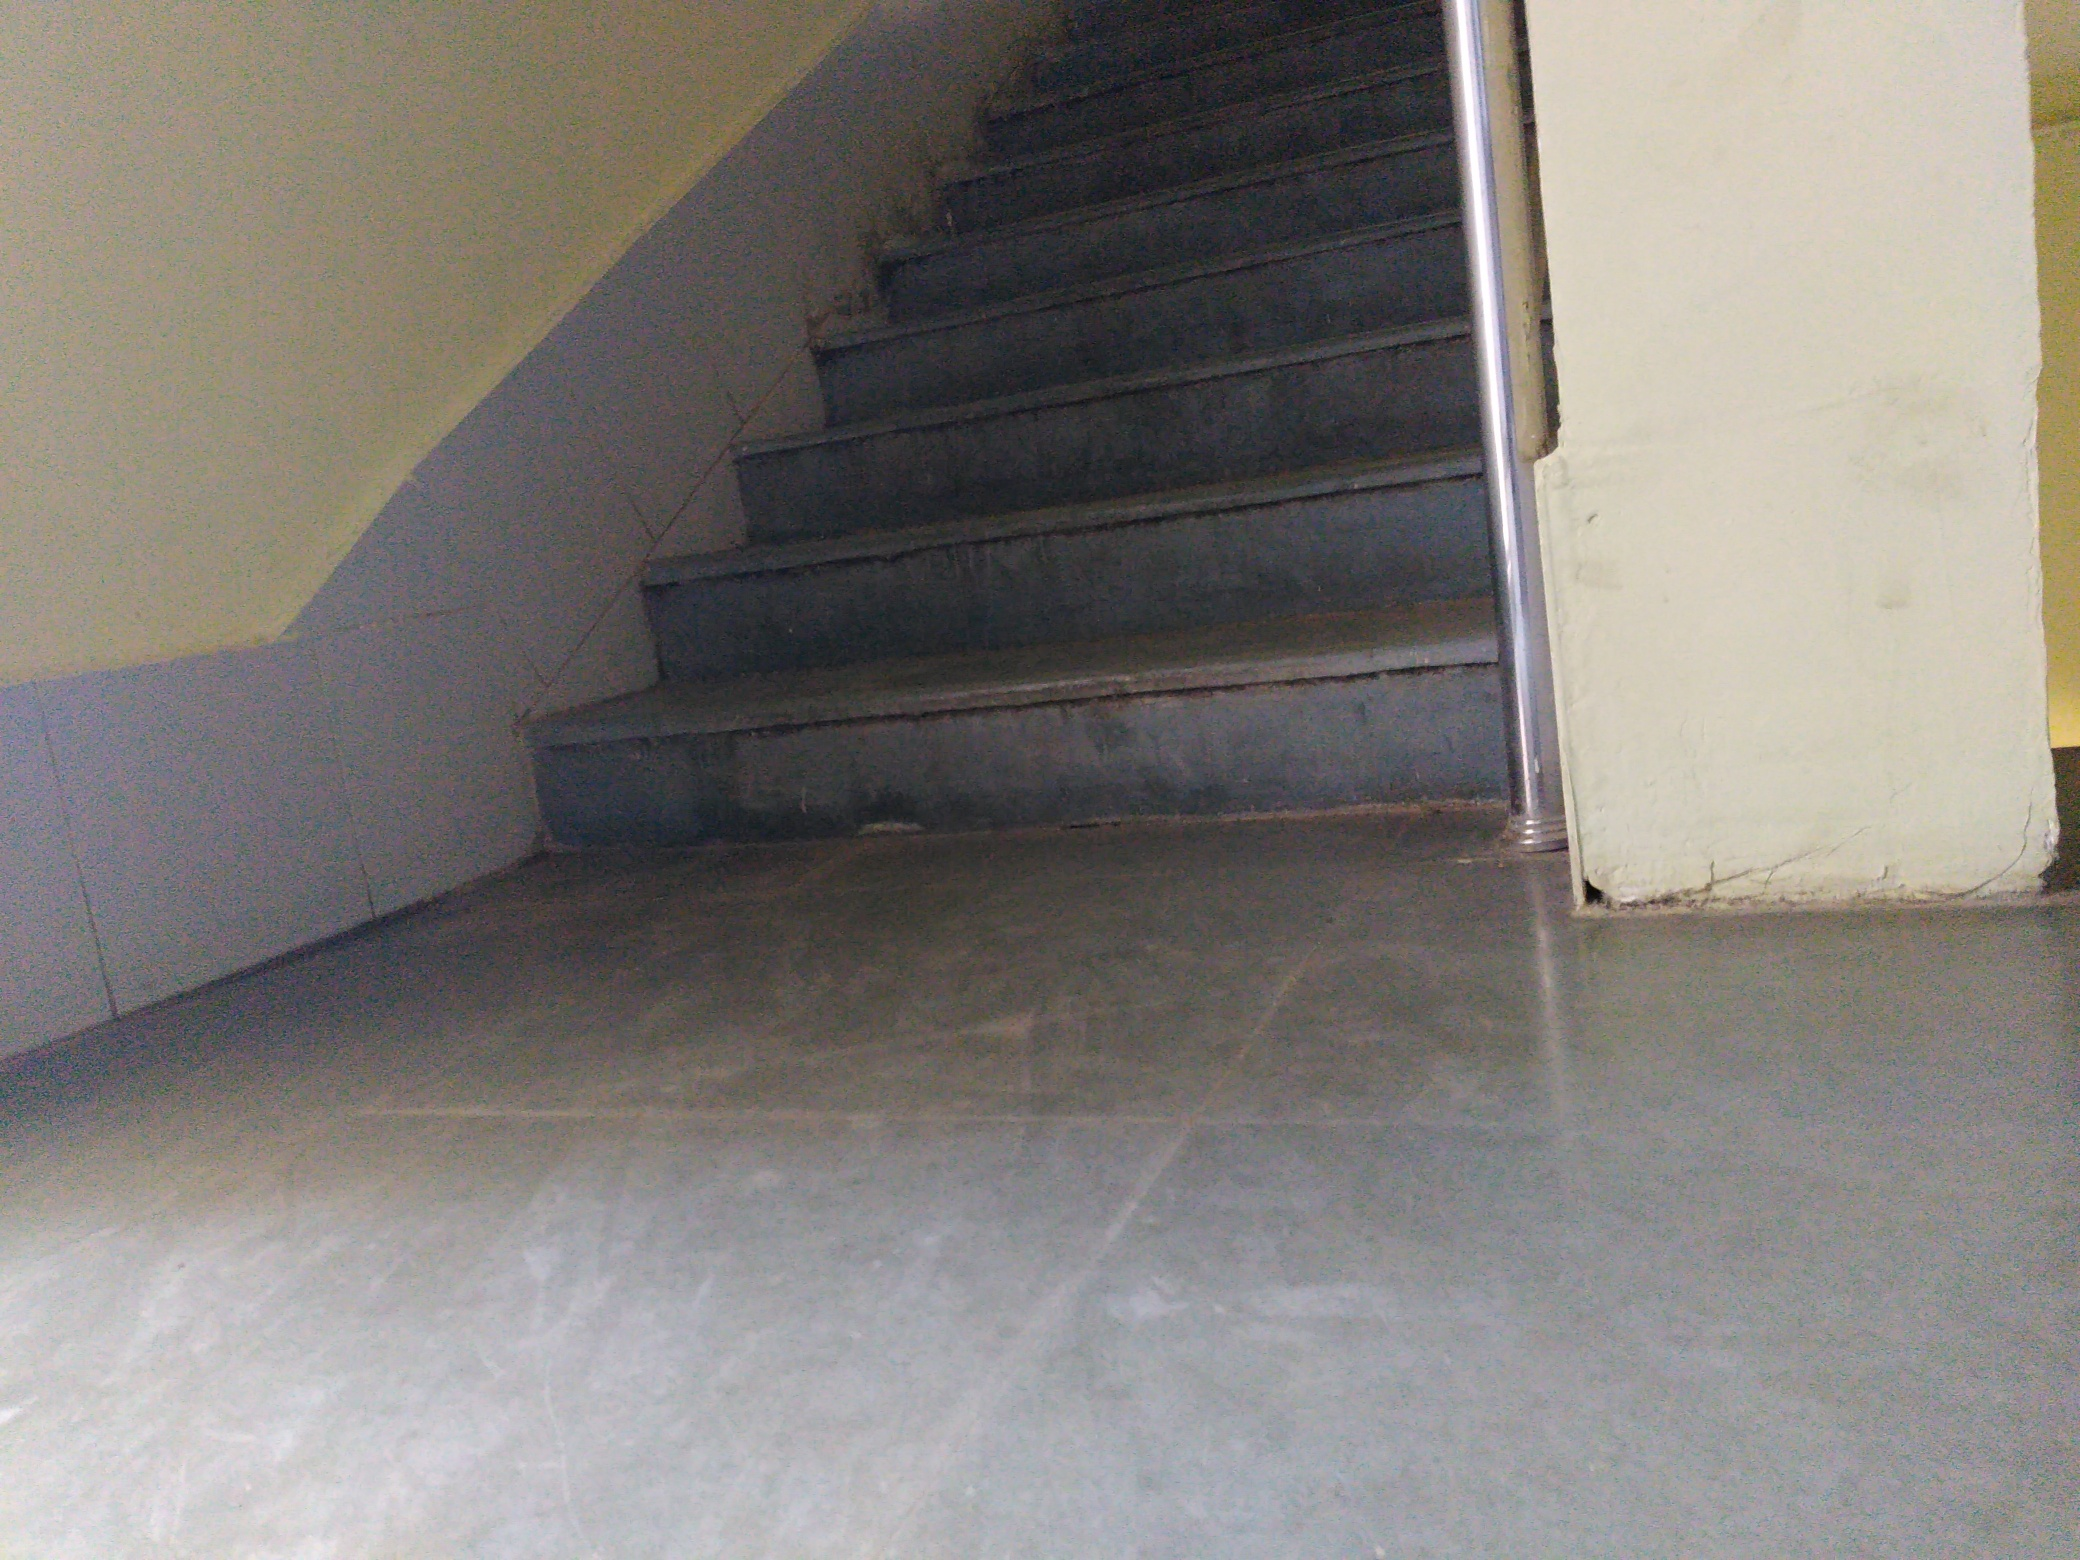stairs_up: (550, 36, 1507, 816)
